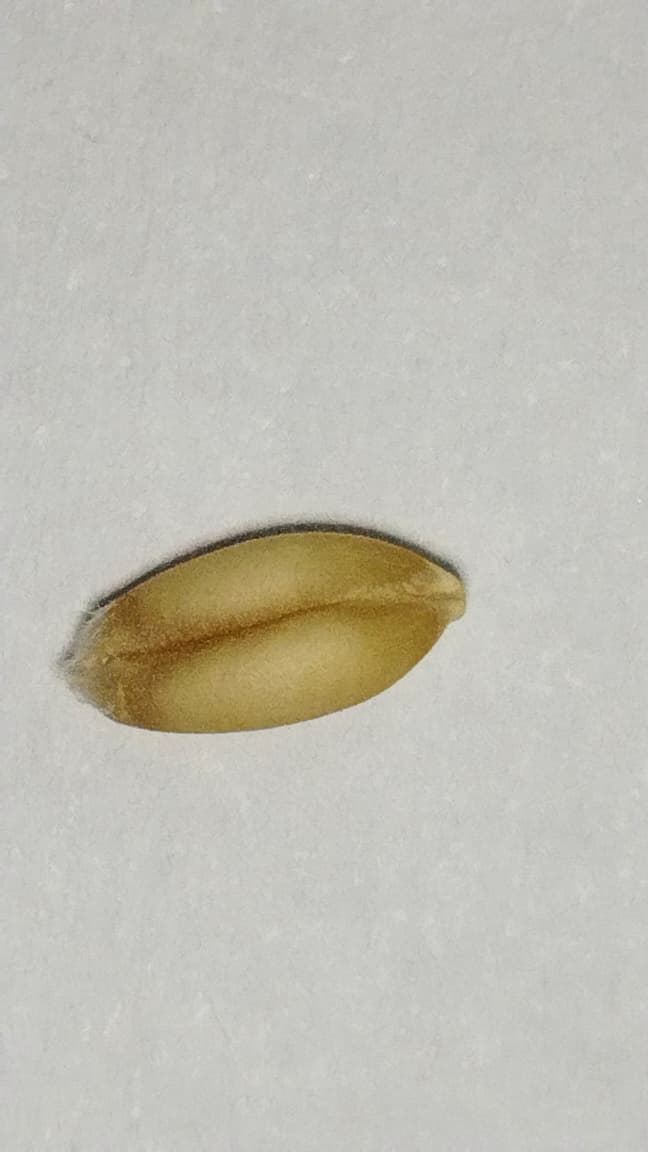healthy: (67, 527, 463, 732)
